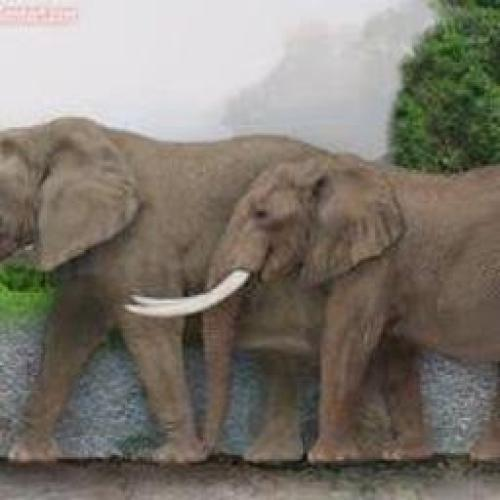african_elephant-endangered: (2, 118, 424, 460), (175, 157, 500, 470)
